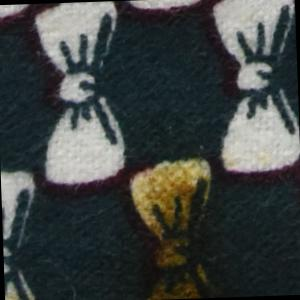Oil Stain: (116, 153, 230, 300), (6, 291, 45, 300)
